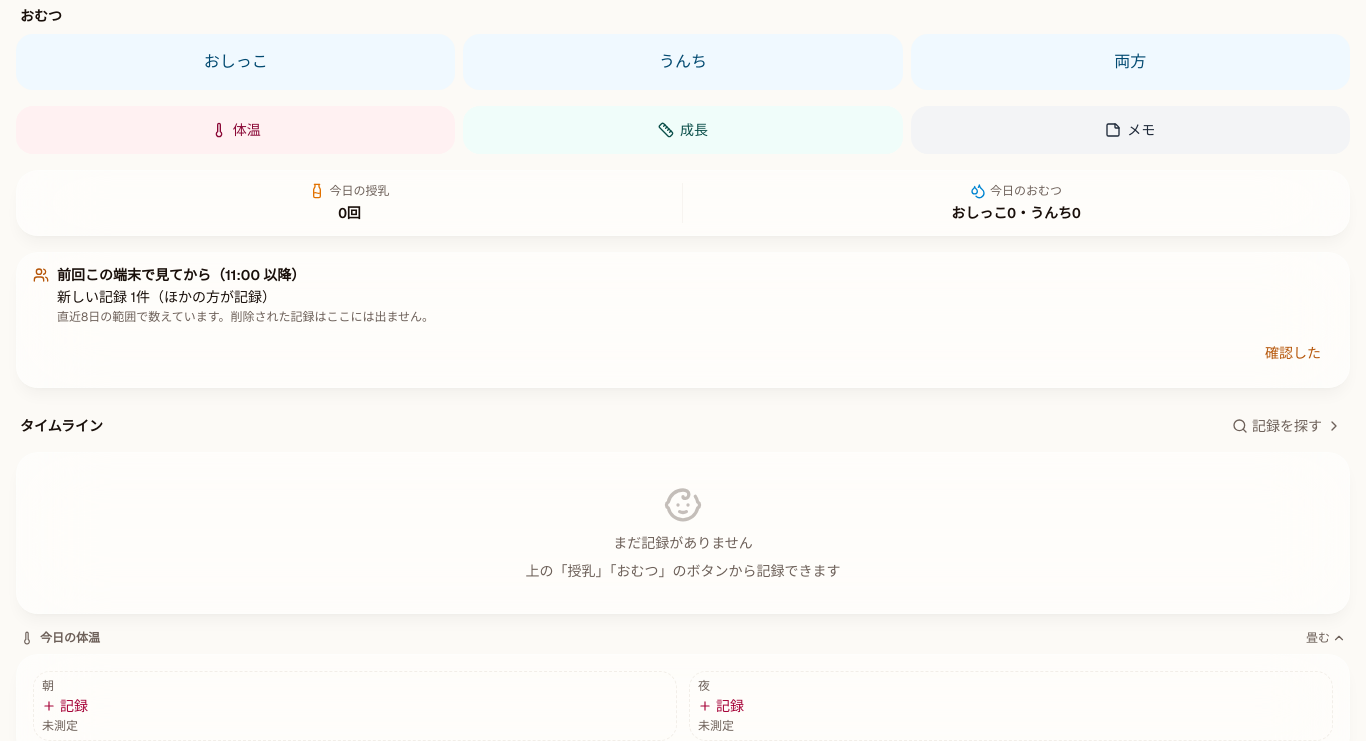
Test: BabyDashboard / 前回この端末で見てから（C4 引き継ぎ・AC16） › 「確認した」はこの端末の印だけを進めて閉じる
(page scrolled)
Click the button "確認した" at (1293, 352), box top-left (1253, 330), bottom-right (1333, 374)
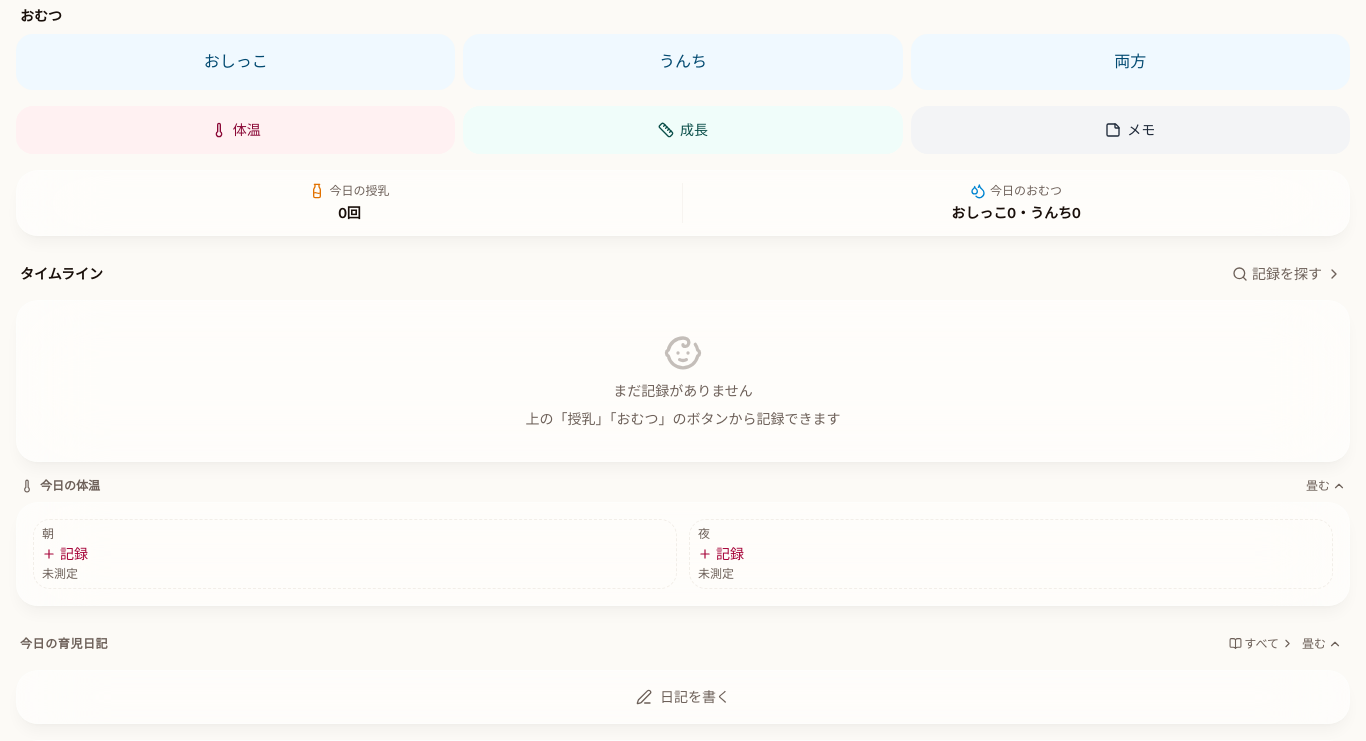
Check: the text "前回この端末で見てから" is gone
